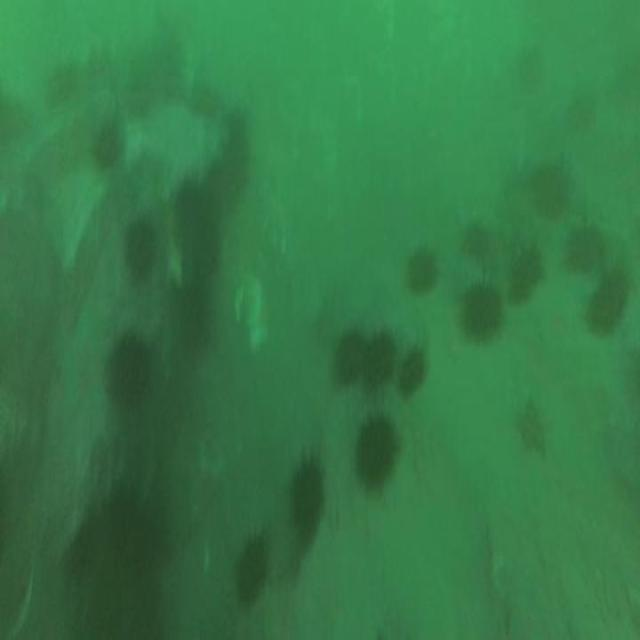echinus: (358, 409, 398, 488), (589, 272, 631, 340), (106, 340, 148, 404), (292, 458, 324, 539), (459, 283, 502, 341), (234, 538, 268, 606), (532, 161, 572, 218), (220, 114, 252, 178), (125, 218, 158, 277), (508, 245, 540, 305), (367, 327, 395, 394), (567, 223, 602, 273), (335, 329, 362, 387), (174, 184, 204, 232), (93, 125, 123, 172), (406, 248, 436, 292), (460, 221, 490, 261), (400, 348, 425, 392)
starfish: (518, 398, 550, 452)
